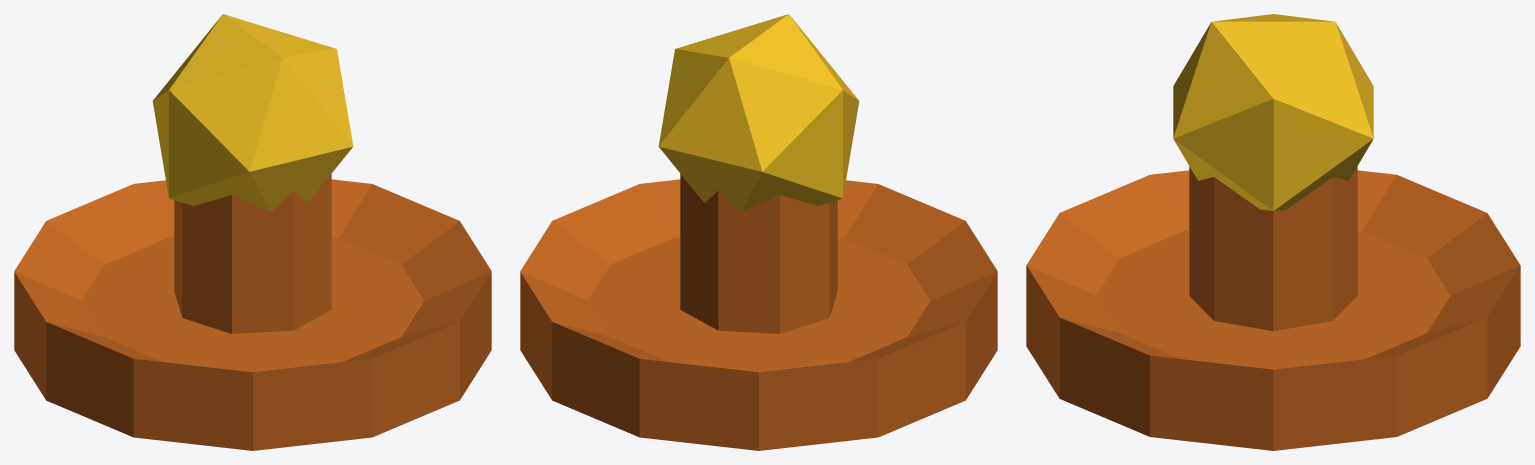
File: mallet_p.glb
The picture shows the model from 3 angles, left to right: view 1: azimuth 30°, elevation 25°; view 2: azimuth 150°, elevation 25°; view 3: azimuth 270°, elevation 25°; orthographic projection. The views are drawn at different scales.
Parts seen in each view (by area): view 1: Disc; view 2: Disc; view 3: Disc.
Boxes of the visible parts, bbox=[...] form: Disc: bbox=[14, 14, 491, 450]; Disc: bbox=[520, 14, 997, 450]; Disc: bbox=[1026, 14, 1520, 450].
Bounding box in the file's own units: 0.44 × 0.3193 × 0.44.
